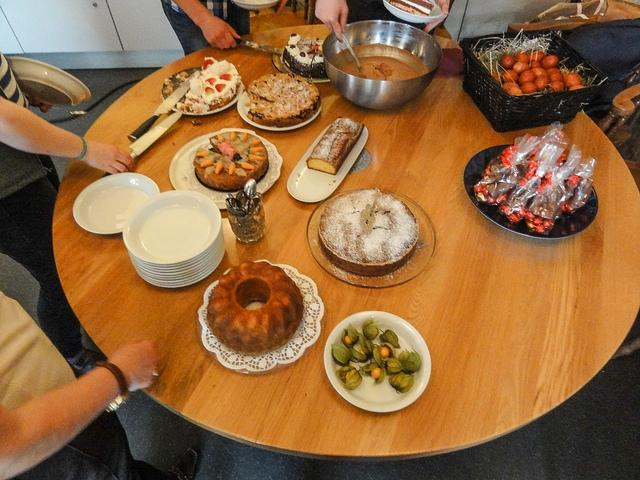strawberry: (203, 59, 214, 70), (220, 74, 232, 82), (206, 78, 217, 86), (216, 84, 226, 92), (205, 86, 215, 94)
